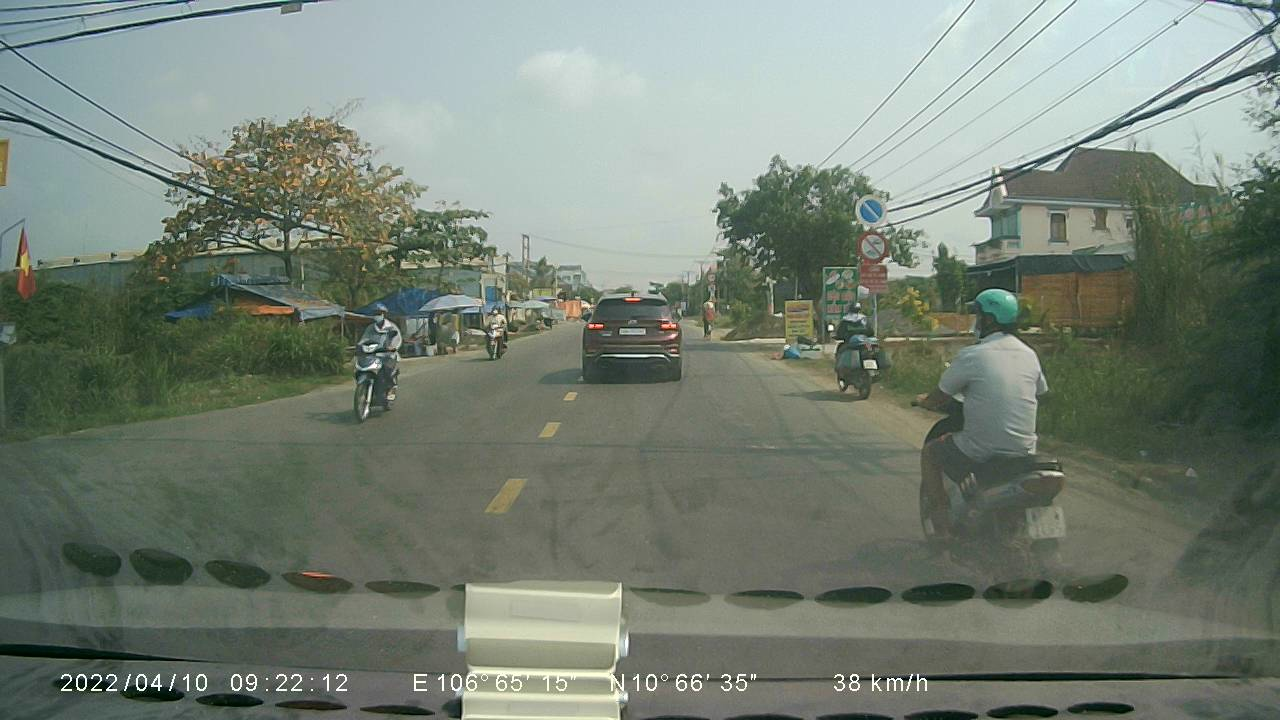Bien khac: (854, 228, 890, 264)
Cam do xe: (850, 194, 891, 226)
